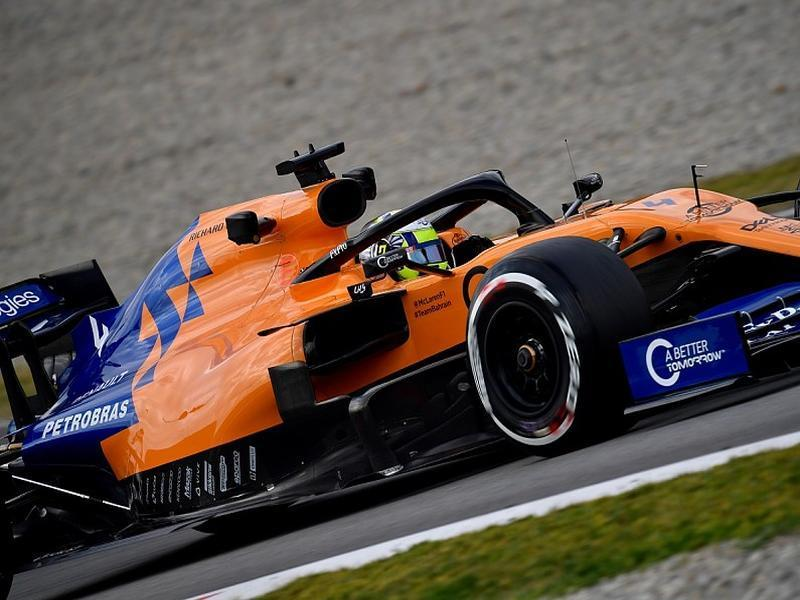f1: (5, 130, 800, 526)
